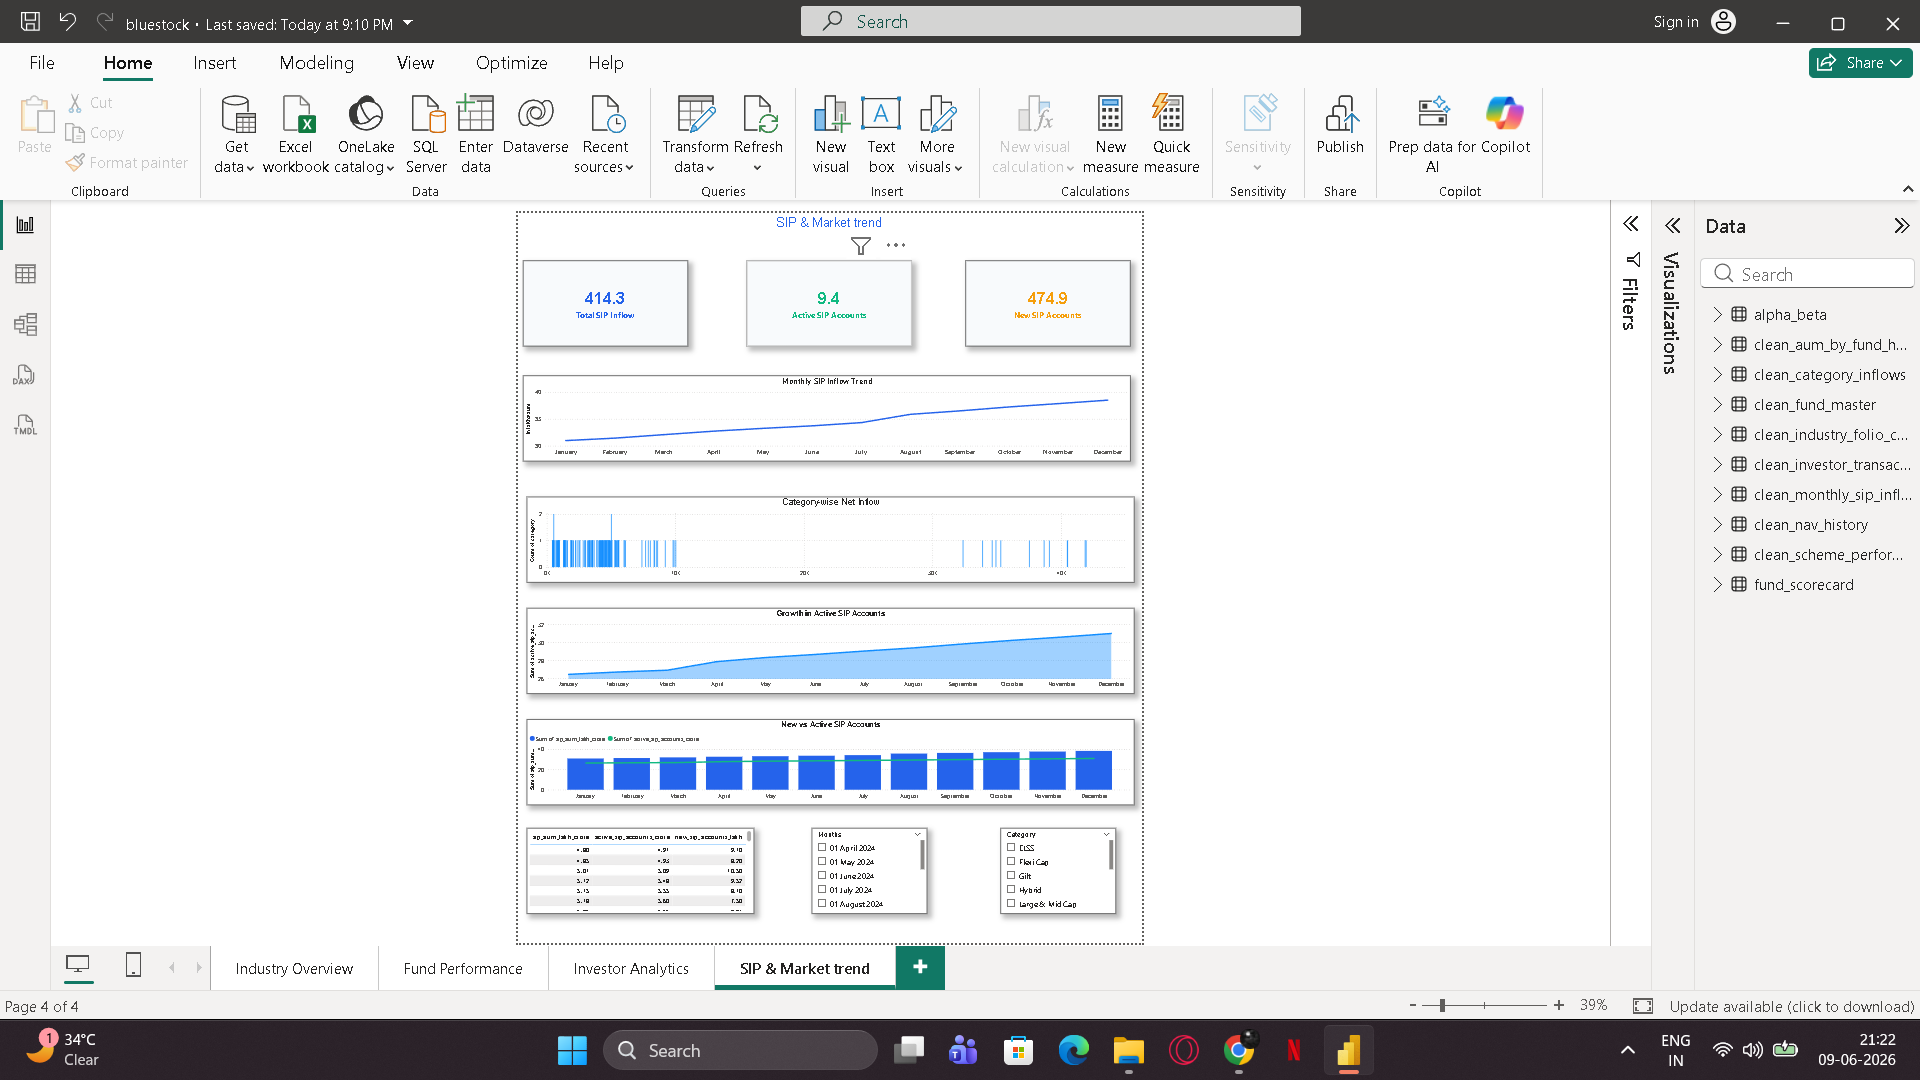

The dashboard page shown, as its layout file describes it:
{"tool":"powerbi","page":{"name":"SIP & Market trend","canvas":[1280,1499],"ordinal":3},"visuals":[{"type":"textbox","box":[10.3,0,1256.4,70.5],"z":0},{"type":"card","title":"Total SIP Inflow","fields":{"Values":["Sum(clean_monthly_sip_inflows.sip_aum_lakh_crore)"]},"box":[10.3,97.4,338.5,175.6],"z":1001},{"type":"card","title":"Total SIP Inflow","fields":{"Values":["Max(clean_monthly_sip_inflows.active_sip_accounts_crore)"]},"box":[469.2,97.4,338.5,175.6],"z":1002},{"type":"card","title":"Total SIP Inflow","fields":{"Values":["Sum(clean_monthly_sip_inflows.new_sip_accounts_lakh)"]},"box":[917.9,97.4,338.5,175.6],"z":1003},{"type":"lineChart","title":"Monthly SIP Inflow Trend","fields":{"Y":["Sum(clean_monthly_sip_inflows.sip_aum_lakh_crore)"],"Category":["clean_monthly_sip_inflows.month.Variation.Date Hierarchy.Month"]},"box":[10.3,332.1,1246.2,175.6],"z":1004},{"type":"clusteredColumnChart","title":"Category-wise Net Inflow","fields":{"Category":["clean_category_inflows.net_inflow_crore"],"Y":["CountNonNull(clean_category_inflows.category)"]},"box":[16.7,582.1,1246.2,175.6],"z":1005},{"type":"areaChart","title":"Growth in Active SIP Accounts","fields":{"Category":["clean_monthly_sip_inflows.month.Variation.Date Hierarchy.Month"],"Y":["Sum(clean_monthly_sip_inflows.active_sip_accounts_crore)"]},"box":[17,810,1246,176],"z":1006},{"type":"lineClusteredColumnComboChart","title":"New vs Active SIP Accounts","fields":{"Category":["clean_monthly_sip_inflows.month.Variation.Date Hierarchy.Month"],"Y":["Sum(clean_monthly_sip_inflows.sip_aum_lakh_crore)"],"Y2":["Sum(clean_monthly_sip_inflows.active_sip_accounts_crore)"]},"box":[17,1038,1246,176],"z":1007},{"type":"tableEx","fields":{"Values":["clean_monthly_sip_inflows.sip_aum_lakh_crore","clean_monthly_sip_inflows.active_sip_accounts_crore","clean_monthly_sip_inflows.new_sip_accounts_lakh"]},"box":[16.7,1260.3,466.7,175.6],"z":1008},{"type":"slicer","fields":{"Values":["clean_category_inflows.month"]},"box":[602.6,1260.3,237.2,175.6],"z":1009},{"type":"slicer","fields":{"Values":["clean_category_inflows.category"]},"box":[988.5,1260.3,237.2,175.6],"z":1010}]}

Visuals, with their boxes on the page's 1280x1499 design canvas (x1, y1, x2, y2). These are canvas units, not pixel positions in the 1920x1080 screenshot, which may show the page scaled, cropped or inside an application window:
textbox: box=[10, 0, 1267, 70]
"Total SIP Inflow" card: box=[10, 97, 349, 273]
"Total SIP Inflow" card: box=[469, 97, 808, 273]
"Total SIP Inflow" card: box=[918, 97, 1256, 273]
"Monthly SIP Inflow Trend" lineChart: box=[10, 332, 1256, 508]
"Category-wise Net Inflow" clusteredColumnChart: box=[17, 582, 1263, 758]
"Growth in Active SIP Accounts" areaChart: box=[17, 810, 1263, 986]
"New vs Active SIP Accounts" lineClusteredColumnComboChart: box=[17, 1038, 1263, 1214]
tableEx - clean_monthly_sip_inflows.sip_aum_lakh_crore x clean_monthly_sip_inflows.active_sip_accounts_crore: box=[17, 1260, 483, 1436]
slicer - clean_category_inflows.month: box=[603, 1260, 840, 1436]
slicer - clean_category_inflows.category: box=[988, 1260, 1226, 1436]
